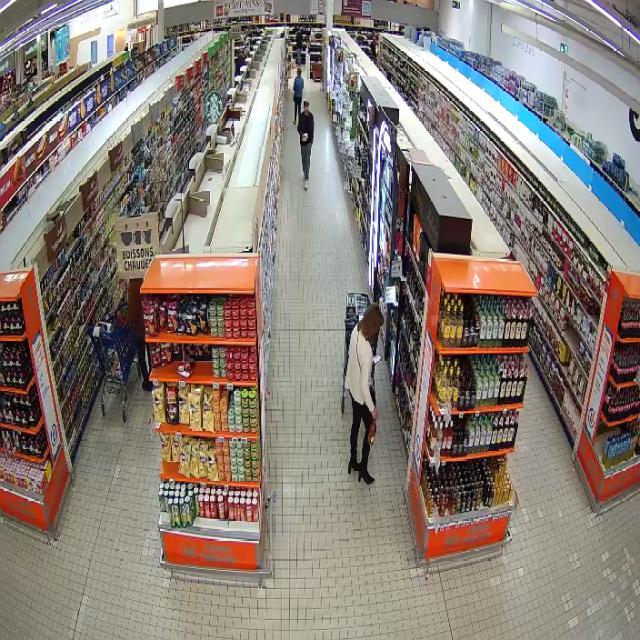article: (367, 421, 377, 444), (301, 133, 309, 141)
hands: (372, 408, 378, 421)
person: (345, 304, 383, 483), (127, 279, 152, 391), (297, 100, 314, 188)
